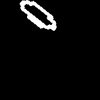chain: (20, 0, 55, 29)
